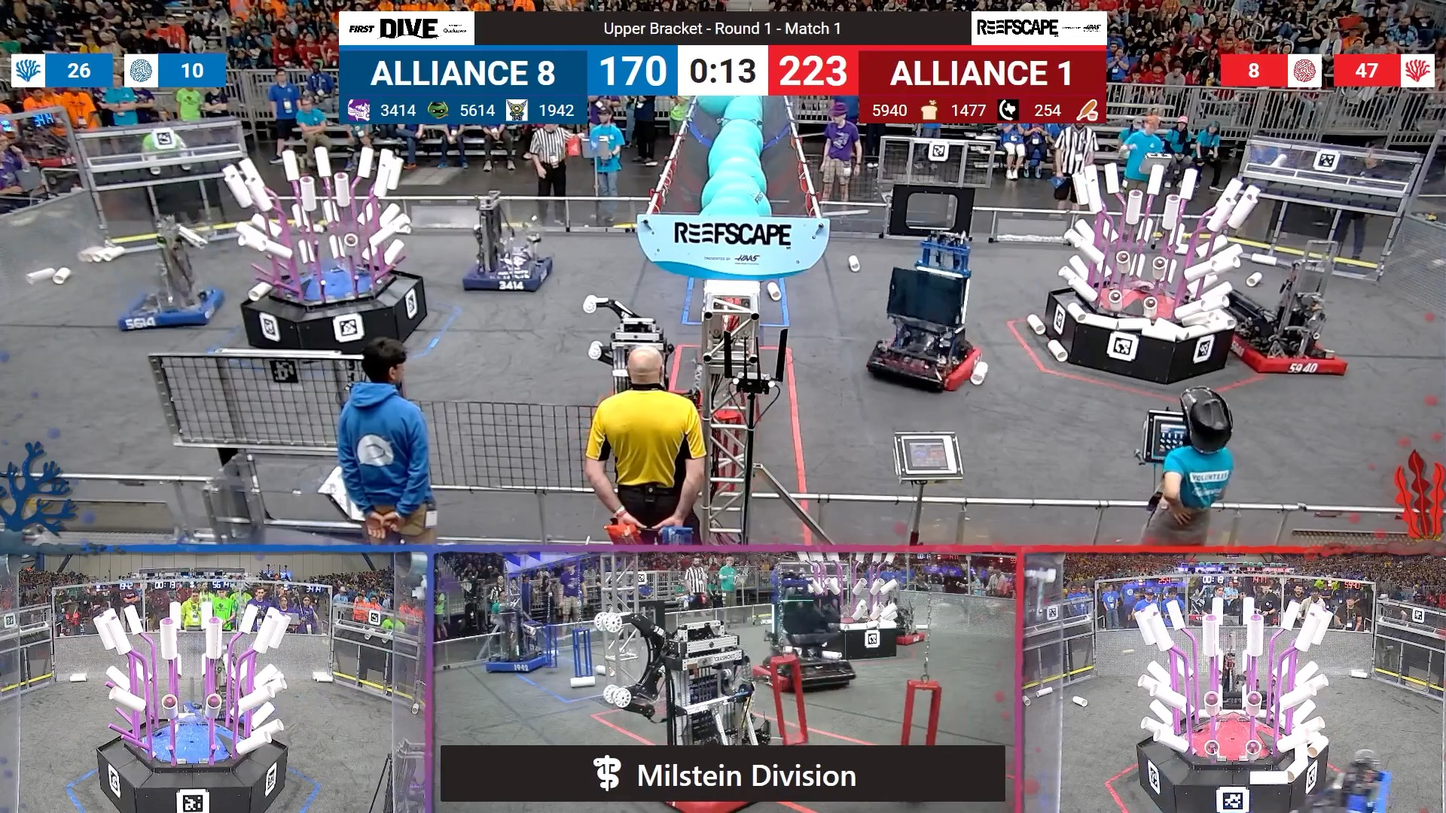bumpers: (1222, 324, 1357, 384), (867, 335, 995, 395), (117, 284, 233, 337), (458, 254, 560, 297), (480, 653, 555, 679), (887, 627, 925, 646)
